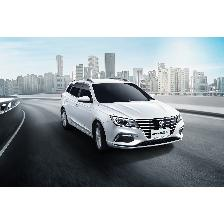EV: (61, 78, 186, 151)
